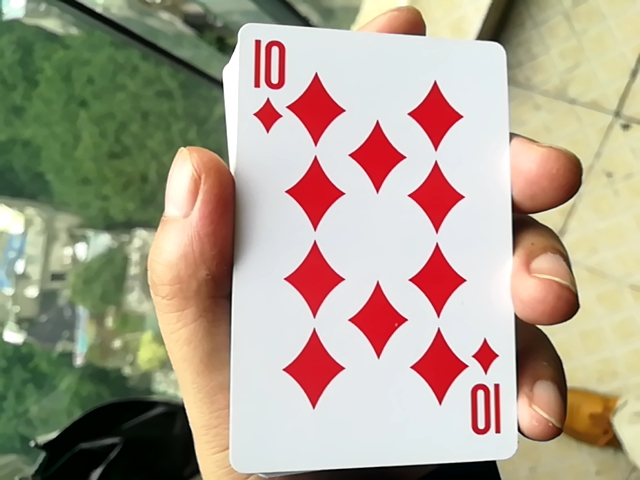fk 10: (211, 9, 515, 472)
